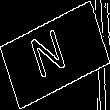N_S: (33, 24, 77, 86)
